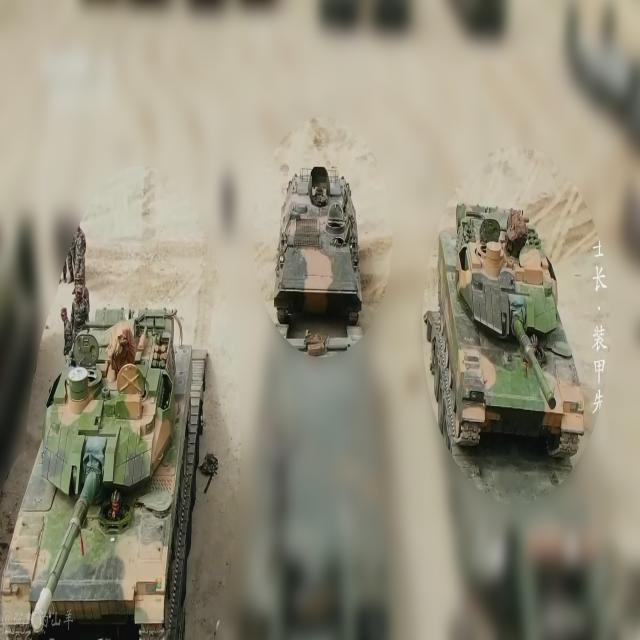tank: (0, 307, 213, 640), (436, 200, 588, 471), (271, 154, 365, 359)
